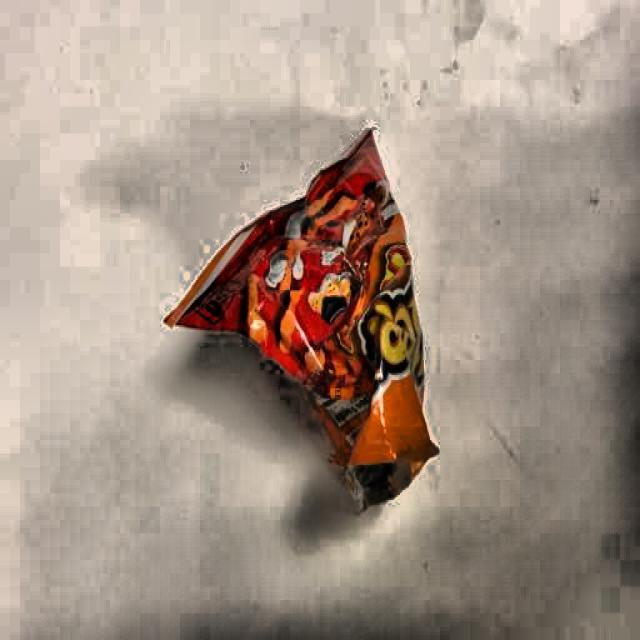trash: (166, 124, 448, 474)
